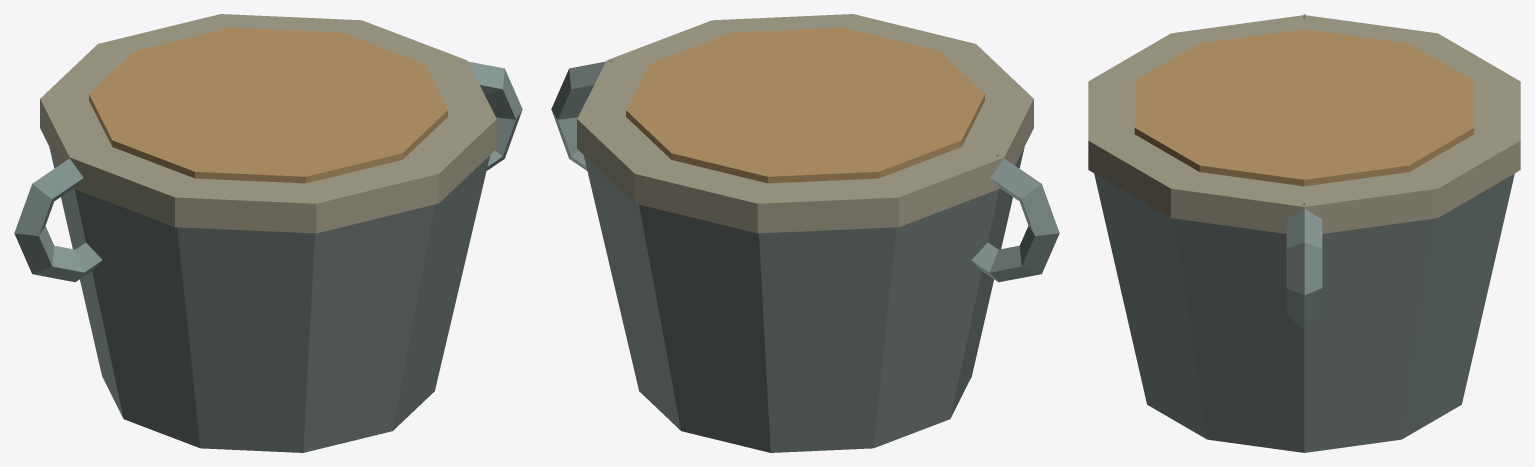
The model's file is map-exclusive-v3__iron_11.glb.
3 renders of one model, left to right at view 1: azimuth 30°, elevation 25°; view 2: azimuth 150°, elevation 25°; view 3: azimuth 270°, elevation 25°, orthographic.
Parts seen in each view (by area): view 1: iron_11; view 2: iron_11; view 3: iron_11.
Boxes of the visible parts, x1,y1,x2,y2 form: iron_11: (14, 14, 522, 452); iron_11: (551, 14, 1059, 452); iron_11: (1088, 14, 1520, 452).
Size of the model in its own units: 1.79 by 0.9475 by 1.33.
